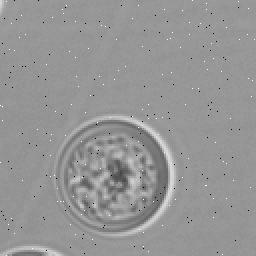picoshell: (54, 116, 176, 236), (2, 248, 64, 256)
